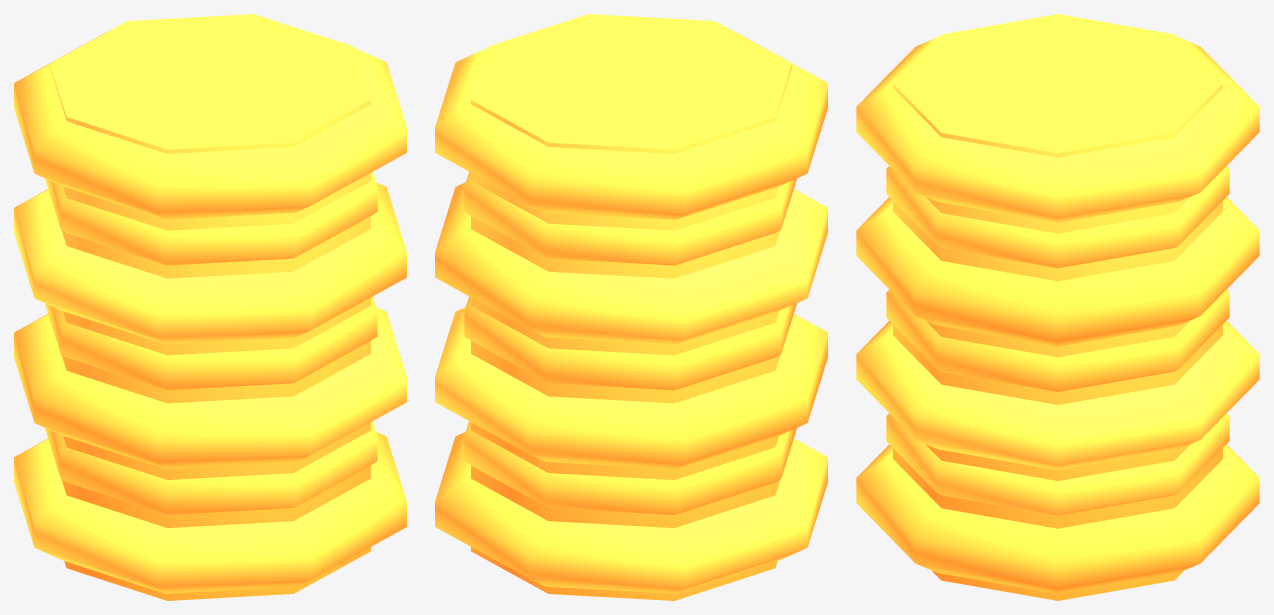
File: gold_grip_002.glb
The picture shows the model from 3 angles, left to right: view 1: azimuth 30°, elevation 25°; view 2: azimuth 150°, elevation 25°; view 3: azimuth 270°, elevation 25°; orthographic projection.
Parts seen in each view (by area): view 1: gold_grip_002; view 2: gold_grip_002; view 3: gold_grip_002.
Boxes of the visible parts, box(x1,y1,x2,y2) form: gold_grip_002: box(14, 14, 406, 600); gold_grip_002: box(435, 14, 827, 600); gold_grip_002: box(856, 14, 1259, 600).
Size of the model in its own units: 2.45 by 3 by 2.45.
1 material, 1 textured.
